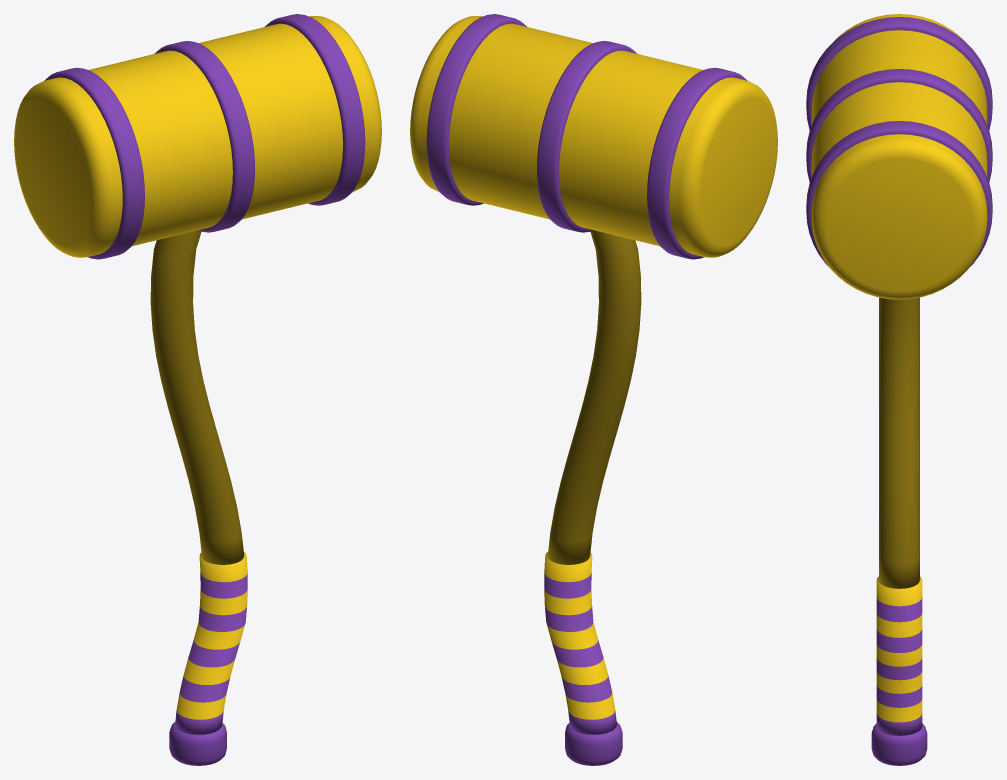
File: hammer_hebidaru.fbx
3 renders of one model, left to right at view 1: azimuth 30°, elevation 25°; view 2: azimuth 150°, elevation 25°; view 3: azimuth 270°, elevation 25°, orthographic. The views are drawn at different scales.
Parts seen in each view (by area): view 1: hebidaru_hammer; view 2: hebidaru_hammer; view 3: hebidaru_hammer.
Part boxes in pixels (x1,y1,x2,y2): hebidaru_hammer: [14, 14, 381, 765]; hebidaru_hammer: [410, 14, 777, 765]; hebidaru_hammer: [806, 14, 992, 765].
Bounding box in the file's own units: 1.1 × 2.58 × 0.636.
